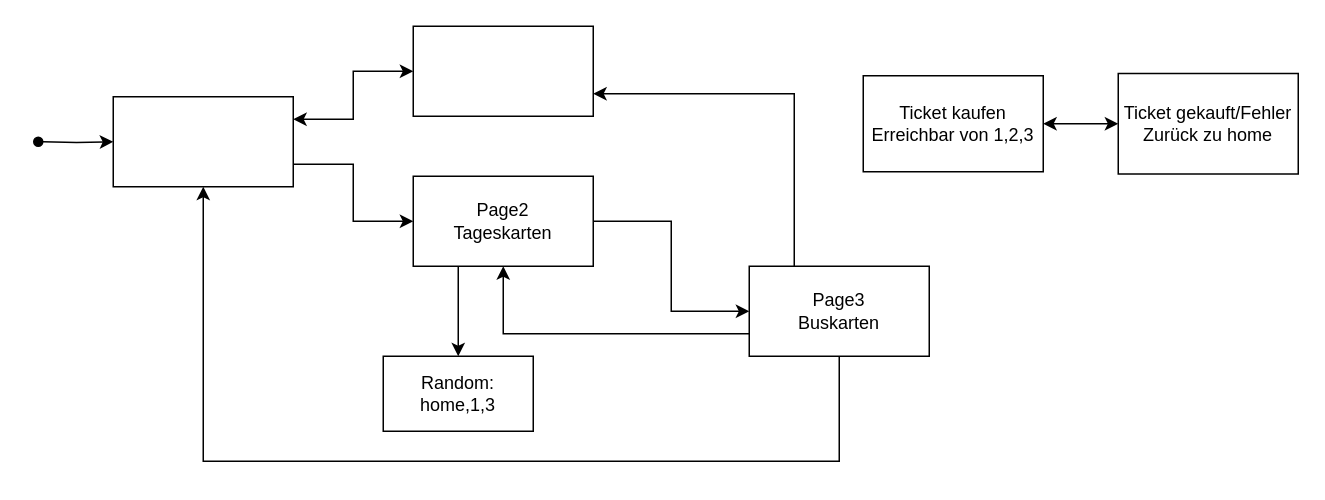
Image size: 1325x500. Some labels were removed from this diagram. The shapes that lost their labels are listed below. From the top down, each one's box as (x1, y1, x2, y2) in pixels, then its label:
(412, 25, 593, 116): Page1 Streifenkarten
(112, 95, 293, 187): Home
